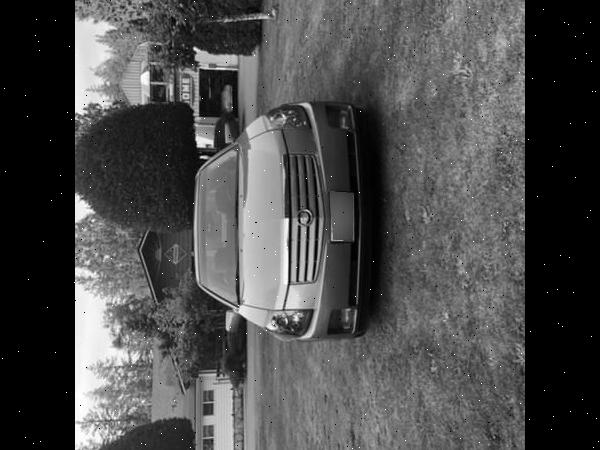Front_Bumper: (279, 99, 367, 340)
Front_Windshield: (194, 142, 239, 308)
Grille: (287, 153, 324, 284)
Hood: (238, 115, 287, 327)
Left_Headlight: (263, 104, 310, 130)
Left_Mirror: (223, 121, 238, 143)
Right_Headlight: (267, 309, 319, 338)
Right_Mirror: (225, 308, 241, 330)
